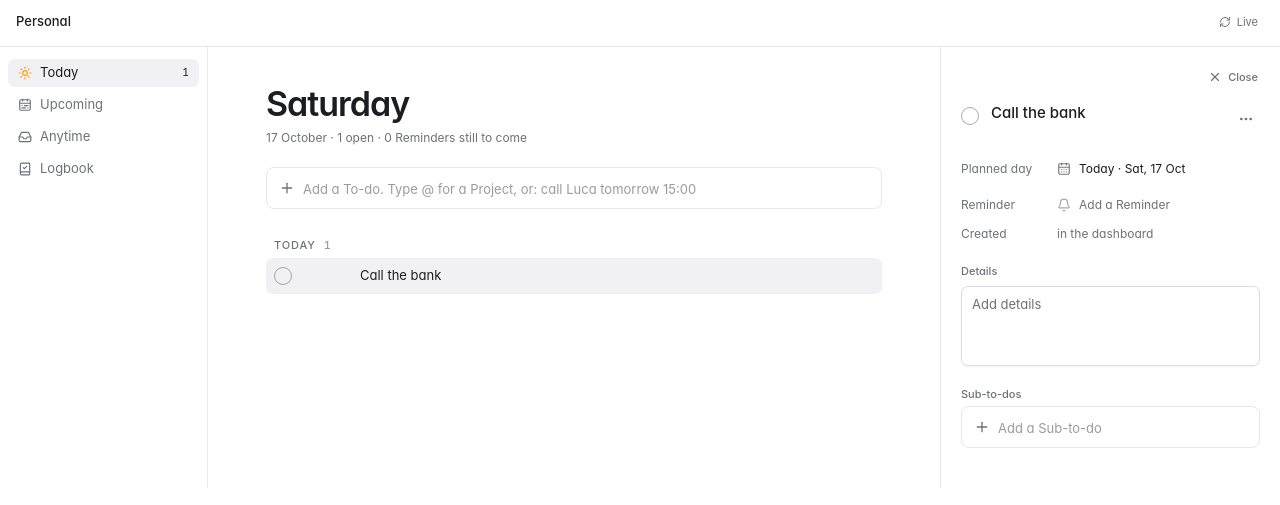
it: the panel's … menu › has the row menu's actions, without Move up and Move down
The image size is (1280, 505).
Click the button named "Actions for this To-do" at (1246, 119), box [1232,105,1260,133]
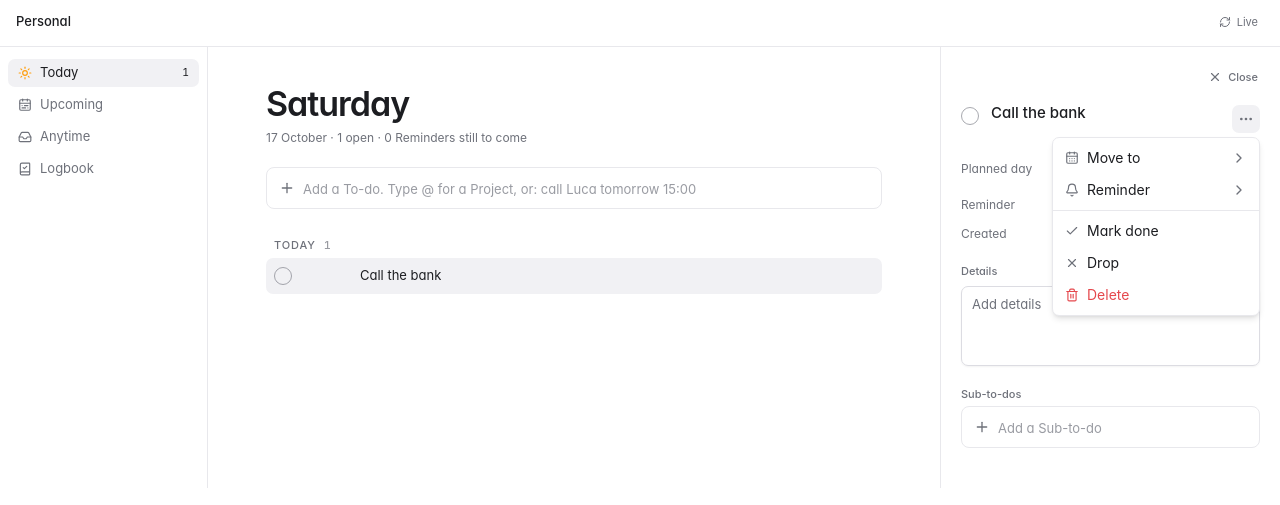
Expected: the menu is shown, [1052,137,1260,316]
Expected: the menu items read "Move to", "Reminder", "Mark done", "Drop", "Delete", in this order, [1065,149,1247,166]; [1065,181,1247,198]; [1065,222,1159,239]; [1065,254,1119,271]; [1065,286,1129,303]
